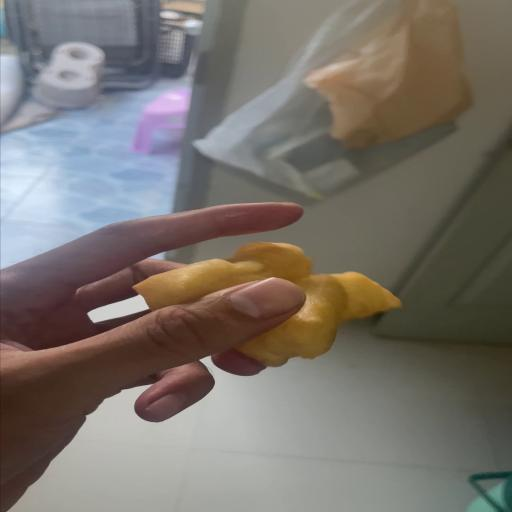street_golden_good: (138, 242, 402, 362)
